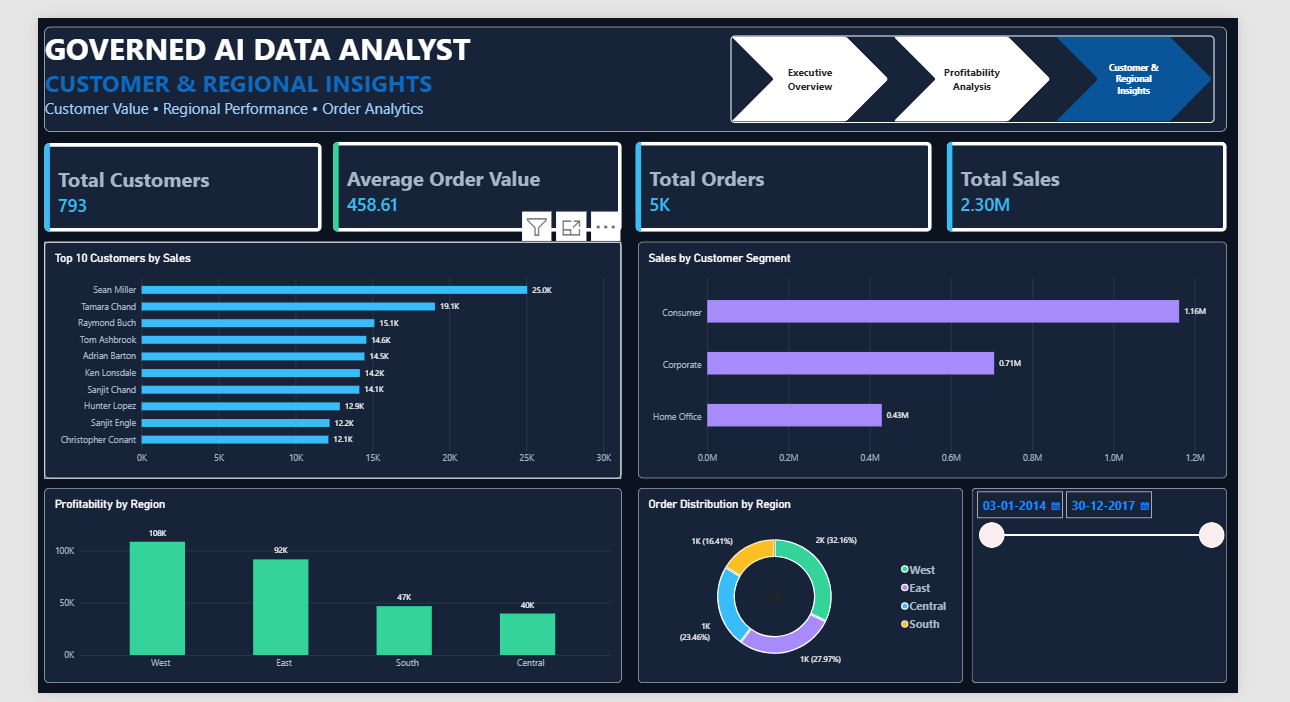

The dashboard page shown, as its layout file describes it:
{"tool":"powerbi","page":{"name":"Customer & Regional Insights","canvas":[1920,1080],"ordinal":2},"visuals":[{"type":"textbox","box":[10,14,1892,168],"z":0},{"type":"cardVisual","fields":{"Data":["superstore_for_powerbi.Total Customers"]},"box":[10,200,444,142],"z":6000},{"type":"cardVisual","fields":{"Data":["superstore_for_powerbi.Average Order Value"]},"box":[472,198,462,144],"z":7000},{"type":"cardVisual","fields":{"Data":["superstore_for_powerbi.Total Orders"]},"box":[956,198,474,144],"z":8000},{"type":"cardVisual","fields":{"Data":["superstore_for_powerbi.Total Sales"]},"box":[1454,198,448,144],"z":9000},{"type":"clusteredBarChart","title":"Top 10 Customers by Sales","fields":{"Category":["superstore_for_powerbi.Customer Name"],"Y":["superstore_for_powerbi.Total Sales"]},"box":[10,358,924,378],"z":9001},{"type":"clusteredColumnChart","title":"Profitability by Region","fields":{"Category":["superstore_for_powerbi.Region"],"Y":["superstore_for_powerbi.Total Profit"]},"box":[10,752,924,312],"z":9002},{"type":"donutChart","title":"Order Distribution by Region","fields":{"Category":["superstore_for_powerbi.Region"],"Y":["superstore_for_powerbi.Total Orders"]},"box":[960,752,520,312],"z":9003},{"type":"clusteredBarChart","title":"Sales by Customer Segment","fields":{"Category":["superstore_for_powerbi.Segment"],"Y":["superstore_for_powerbi.Total Sales"]},"box":[960,358,942,378],"z":9004},{"type":"slicer","fields":{"Values":["superstore_for_powerbi.Order Date"]},"box":[1494,752,408,312],"z":9005},{"type":"pageNavigator","box":[1108,28,774,140],"z":9006}]}

Visuals, with their boxes on the page's 1920x1080 design canvas (x1, y1, x2, y2). These are canvas units, not pixel positions in the 1290x702 screenshot, which may show the page scaled, cropped or inside an application window:
textbox: pyautogui.locateOnScreen(10, 14, 1902, 182)
cardVisual - superstore_for_powerbi.Total Customers: pyautogui.locateOnScreen(10, 200, 454, 342)
cardVisual - superstore_for_powerbi.Average Order Value: pyautogui.locateOnScreen(472, 198, 934, 342)
cardVisual - superstore_for_powerbi.Total Orders: pyautogui.locateOnScreen(956, 198, 1430, 342)
cardVisual - superstore_for_powerbi.Total Sales: pyautogui.locateOnScreen(1454, 198, 1902, 342)
"Top 10 Customers by Sales" clusteredBarChart: pyautogui.locateOnScreen(10, 358, 934, 736)
"Profitability by Region" clusteredColumnChart: pyautogui.locateOnScreen(10, 752, 934, 1064)
"Order Distribution by Region" donutChart: pyautogui.locateOnScreen(960, 752, 1480, 1064)
"Sales by Customer Segment" clusteredBarChart: pyautogui.locateOnScreen(960, 358, 1902, 736)
slicer - superstore_for_powerbi.Order Date: pyautogui.locateOnScreen(1494, 752, 1902, 1064)
pageNavigator: pyautogui.locateOnScreen(1108, 28, 1882, 168)
